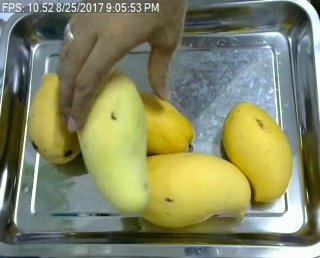Mango: (73, 74, 151, 215), (145, 155, 251, 229), (220, 100, 294, 202), (26, 72, 83, 166), (127, 86, 195, 155)
